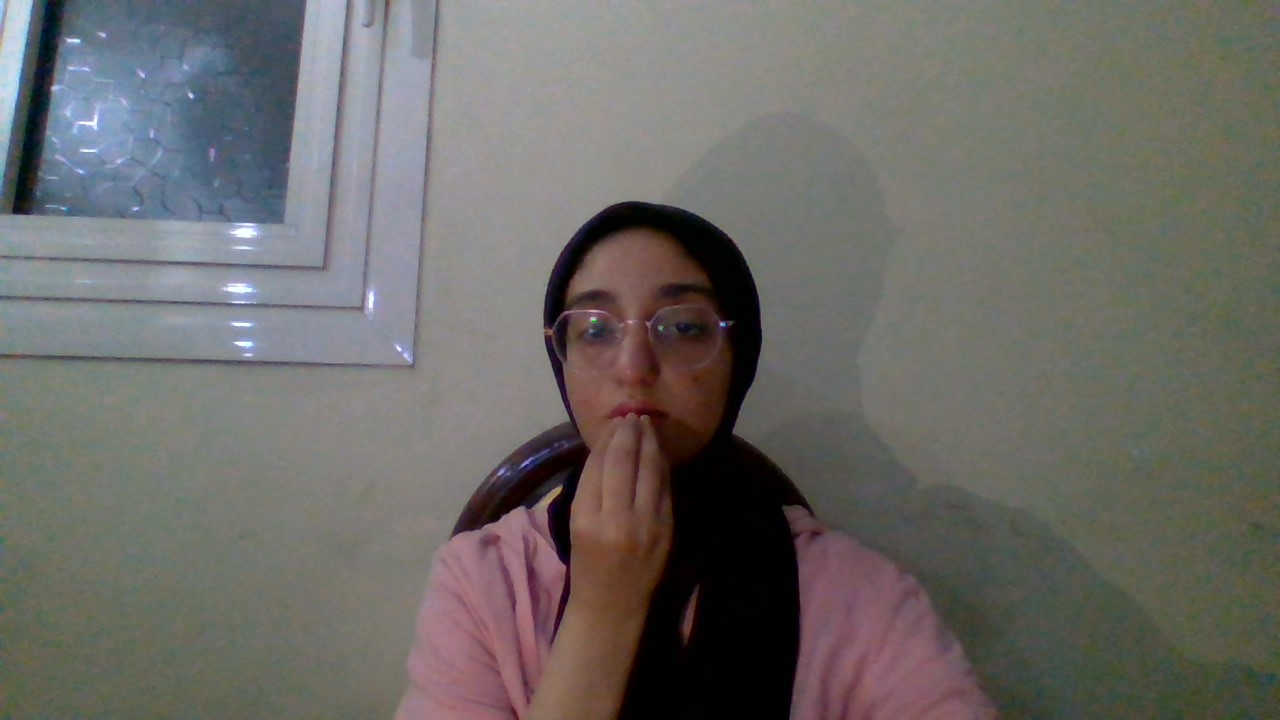eat: (471, 390, 818, 598)
